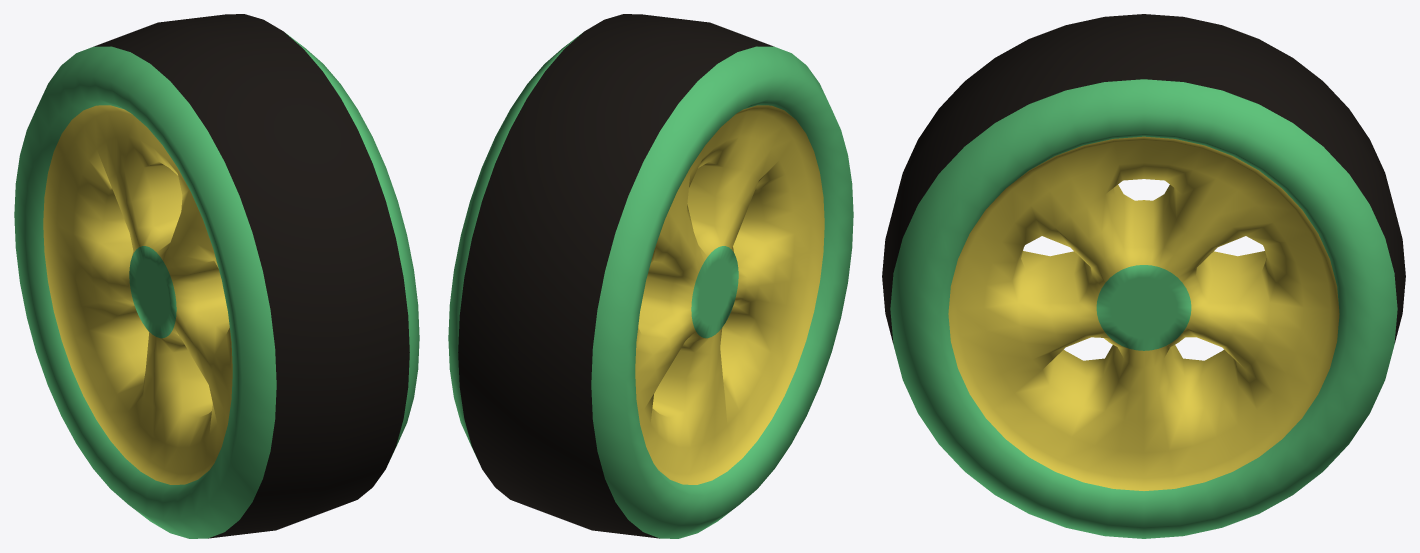
Rendered from Rueda_Escudero.fbx.
3 views of the same model, side by side, from view 1: azimuth 30°, elevation 25°; view 2: azimuth 150°, elevation 25°; view 3: azimuth 270°, elevation 25° (orthographic).
Visible parts, largest first — view 1: polySurface70; view 2: polySurface70; view 3: polySurface70.
Boxes of the visible parts, bbox=[...] form: polySurface70: bbox=[14, 14, 419, 538]; polySurface70: bbox=[448, 14, 853, 538]; polySurface70: bbox=[882, 14, 1405, 538].
Bounding box in the file's own units: 72.42 × 184 × 184.
